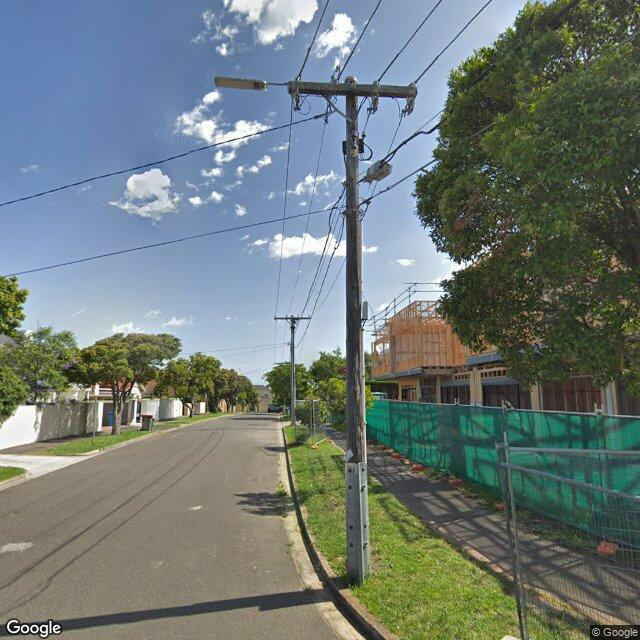crossarm: (288, 80, 418, 98), (274, 317, 311, 320)
streetlight: (215, 76, 288, 91)
timber-pole: (346, 77, 370, 582), (290, 315, 296, 426)
